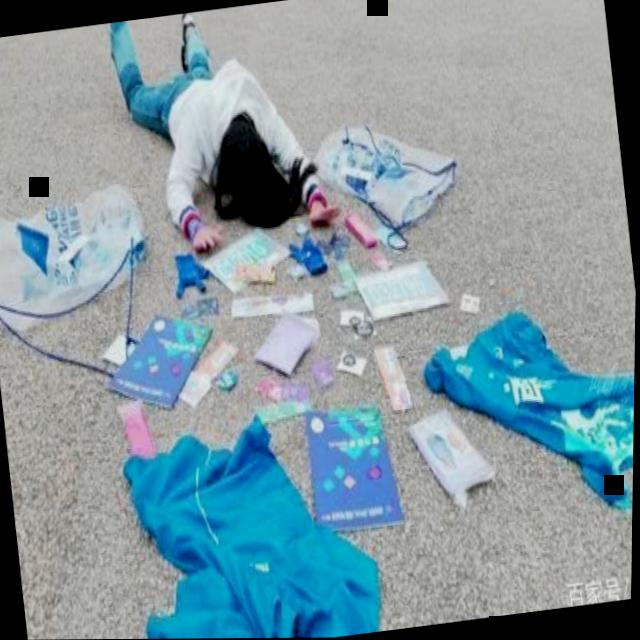Fall-Detected: (70, 0, 340, 271)
